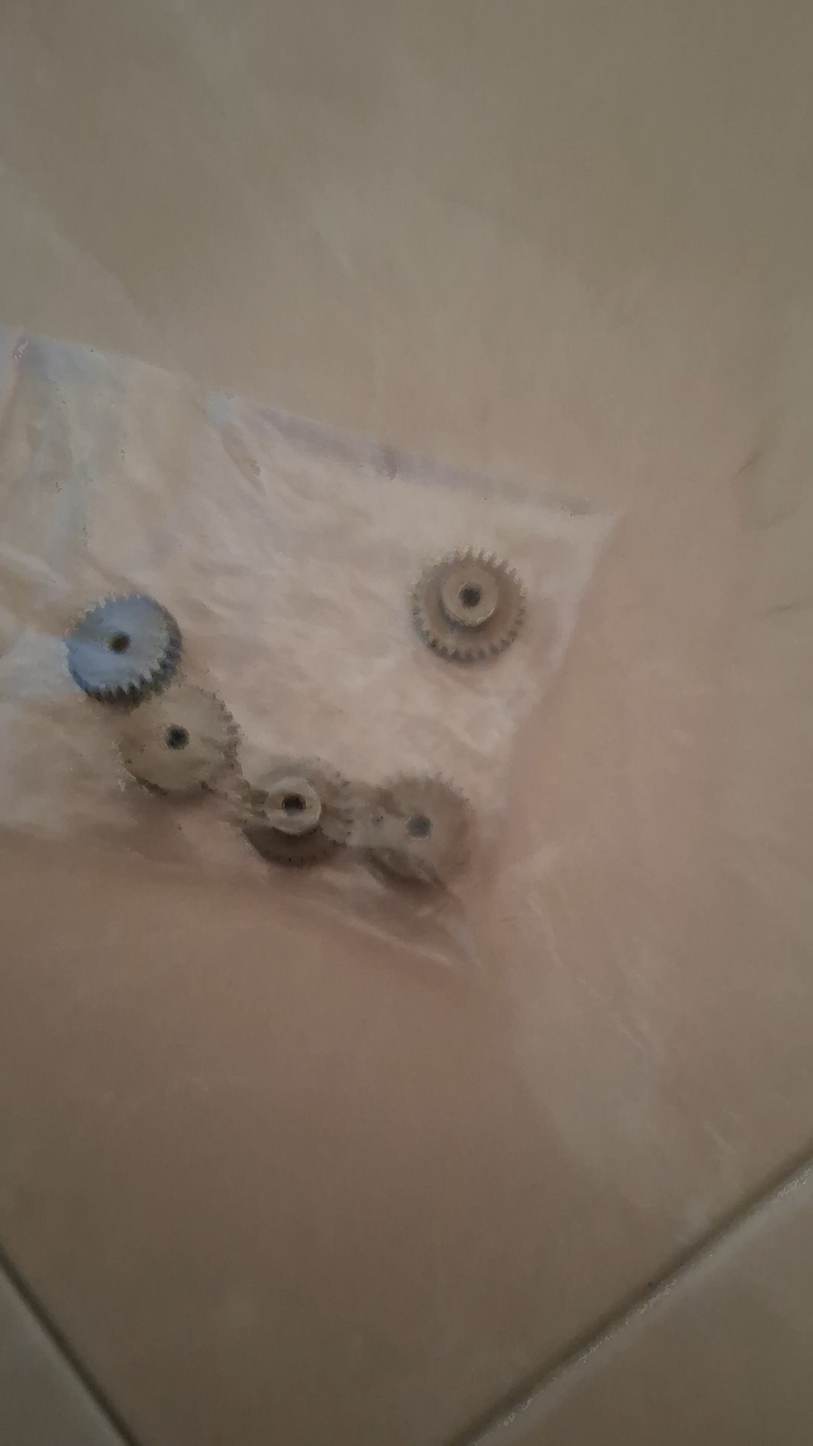spur gear: (118, 682, 238, 796), (65, 594, 181, 703), (412, 551, 525, 661), (241, 759, 352, 866), (366, 776, 471, 885)
